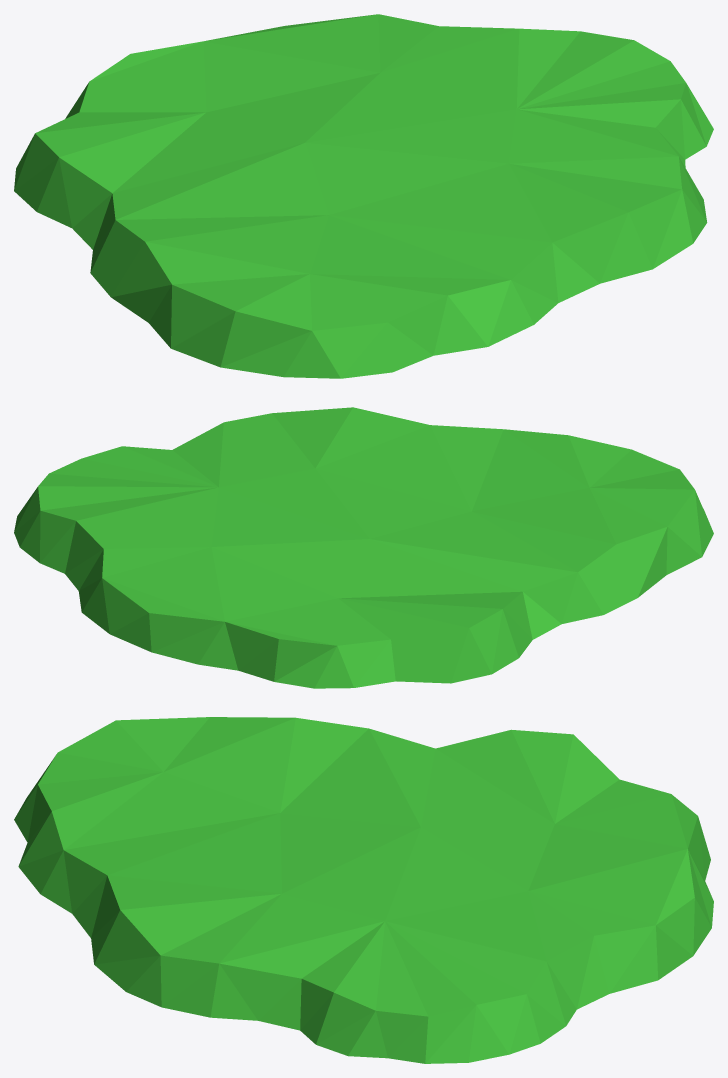
Rendered from um_grass005.FBX.
3 views of the same model, one above another, from view 1: azimuth 30°, elevation 25°; view 2: azimuth 150°, elevation 25°; view 3: azimuth 270°, elevation 25° (orthographic). The views are drawn at different scales.
Visible parts, largest first — view 1: um_grass005; view 2: um_grass005; view 3: um_grass005.
Boxes of the visible parts, left/top/right/bottom form: um_grass005: left=14, top=14, right=713, bottom=378; um_grass005: left=14, top=407, right=713, bottom=688; um_grass005: left=14, top=717, right=713, bottom=1063.
Size of the model in its own units: 2.69 by 0.2058 by 2.54.
